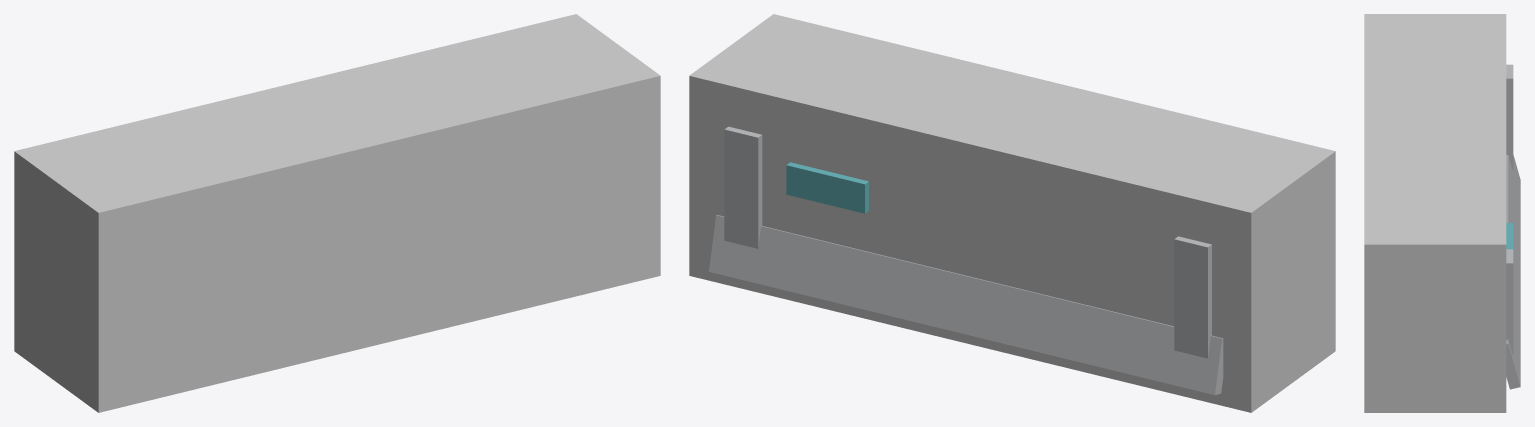
File: eld_ar_condicionado.glb
The picture shows the model from 3 angles, left to right: view 1: azimuth 30°, elevation 25°; view 2: azimuth 150°, elevation 25°; view 3: azimuth 270°, elevation 25°; orthographic projection. The views are drawn at different scales.
Parts seen in each view (by area): view 1: ELD_AR_CONDICIONADO_v01; view 2: ELD_AR_CONDICIONADO_v01; view 3: ELD_AR_CONDICIONADO_v01.
Part boxes in pixels (box(x1,y1,x2,y2)): ELD_AR_CONDICIONADO_v01: box(14, 14, 660, 412); ELD_AR_CONDICIONADO_v01: box(689, 14, 1335, 412); ELD_AR_CONDICIONADO_v01: box(1364, 14, 1520, 412).
Size of the model in its own units: 1 by 0.34 by 0.2858.
